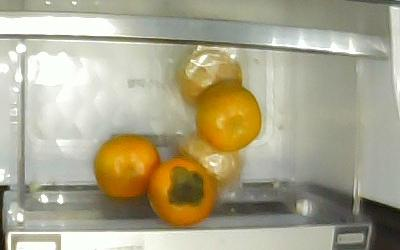persimmon: (194, 82, 262, 152), (147, 157, 215, 226), (93, 136, 161, 197)
persimmon_vinyl: (178, 50, 242, 104), (177, 133, 240, 186)
